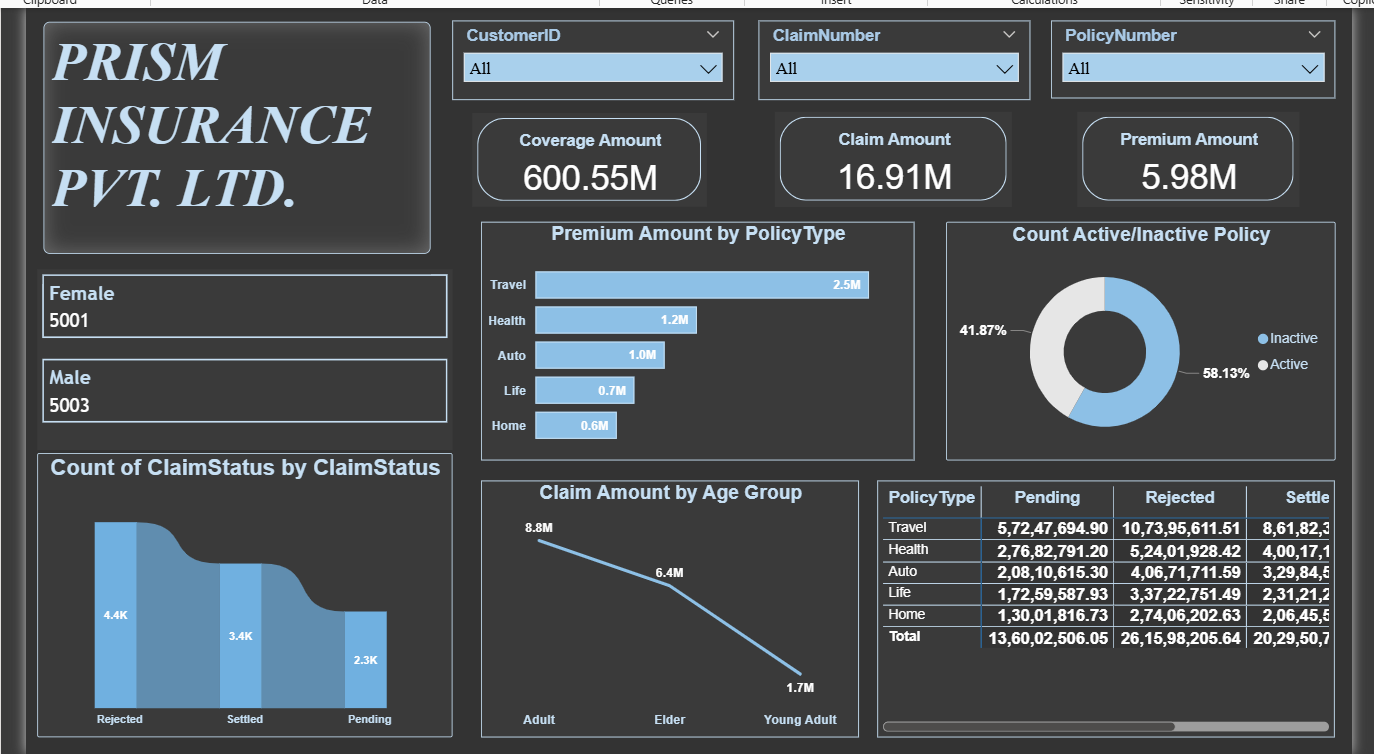

Layout of this report page (visuals, bound fields, positions):
{"tool":"powerbi","page":{"name":"Page 1","canvas":[1280,720],"ordinal":0},"visuals":[{"type":"slicer","fields":{"Values":["InsuranceData.PolicyNumber"]},"box":[989.4,12.3,274.4,75.5],"z":0},{"type":"slicer","fields":{"Values":["InsuranceData.ClaimNumber"]},"box":[706.7,12.3,262.1,76.8],"z":1000},{"type":"slicer","fields":{"Values":["InsuranceData.CustomerID"]},"box":[411.7,12.3,271.7,76.8],"z":2000},{"type":"textbox","box":[16.5,13.7,373.2,223.7],"z":3000},{"type":"cardVisual","fields":{"Data":["Sum(InsuranceData.PremiumAmount)"]},"box":[1014.1,100.2,214.1,91.9],"z":4000},{"type":"cardVisual","fields":{"Data":["Sum(InsuranceData.CoverageAmount)"]},"box":[723.2,100.2,229.2,91.9],"z":5000},{"type":"cardVisual","fields":{"Data":["Sum(InsuranceData.ClaimAmount)"]},"box":[430.9,101.5,226.4,90.6],"z":6000},{"type":"multiRowCard","fields":{"Values":["InsuranceData.Gender","CountNonNull(InsuranceData.Gender)"]},"box":[11,252.5,400.7,174.3],"z":7000},{"type":"ribbonChart","fields":{"Category":["InsuranceData.ClaimStatus"],"Y":["CountNonNull(InsuranceData.ClaimStatus)"]},"box":[11,429.5,400.7,274.4],"z":8000},{"type":"barChart","fields":{"Category":["InsuranceData.PolicyType"],"Y":["Sum(InsuranceData.PremiumAmount)"]},"box":[439.1,205.8,418.5,230.5],"z":9000},{"type":"lineChart","fields":{"Category":["InsuranceData.Age Group"],"Y":["Sum(InsuranceData.ClaimAmount)"]},"box":[439.1,455.6,365,248.4],"z":10000},{"type":"donutChart","title":"Count  Active/Inactive Policy","fields":{"Category":["InsuranceData.Active/Inactive Policy"],"Y":["CountNonNull(InsuranceData.Active/Inactive Policy)"]},"box":[887.8,205.8,376,230.5],"z":11000},{"type":"pivotTable","fields":{"Values":["Sum(InsuranceData.CoverageAmount)"],"Rows":["InsuranceData.PolicyType"],"Columns":["InsuranceData.ClaimStatus"]},"box":[822,455.6,441.9,248.4],"z":12000}]}

Visuals, with their boxes on the page's 1280x720 design canvas (x1, y1, x2, y2). These are canvas units, not pixel positions in the 1374x754 screenshot, which may show the page scaled, cropped or inside an application window:
slicer - InsuranceData.PolicyNumber: (x1=989, y1=12, x2=1264, y2=88)
slicer - InsuranceData.ClaimNumber: (x1=707, y1=12, x2=969, y2=89)
slicer - InsuranceData.CustomerID: (x1=412, y1=12, x2=683, y2=89)
textbox: (x1=16, y1=14, x2=390, y2=237)
cardVisual - Sum(InsuranceData.PremiumAmount): (x1=1014, y1=100, x2=1228, y2=192)
cardVisual - Sum(InsuranceData.CoverageAmount): (x1=723, y1=100, x2=952, y2=192)
cardVisual - Sum(InsuranceData.ClaimAmount): (x1=431, y1=102, x2=657, y2=192)
multiRowCard - InsuranceData.Gender x CountNonNull(InsuranceData.Gender): (x1=11, y1=252, x2=412, y2=427)
ribbonChart - InsuranceData.ClaimStatus x CountNonNull(InsuranceData.ClaimStatus): (x1=11, y1=430, x2=412, y2=704)
barChart - InsuranceData.PolicyType x Sum(InsuranceData.PremiumAmount): (x1=439, y1=206, x2=858, y2=436)
lineChart - InsuranceData.Age Group x Sum(InsuranceData.ClaimAmount): (x1=439, y1=456, x2=804, y2=704)
"Count  Active/Inactive Policy" donutChart: (x1=888, y1=206, x2=1264, y2=436)
pivotTable - Sum(InsuranceData.CoverageAmount) x InsuranceData.PolicyType: (x1=822, y1=456, x2=1264, y2=704)
